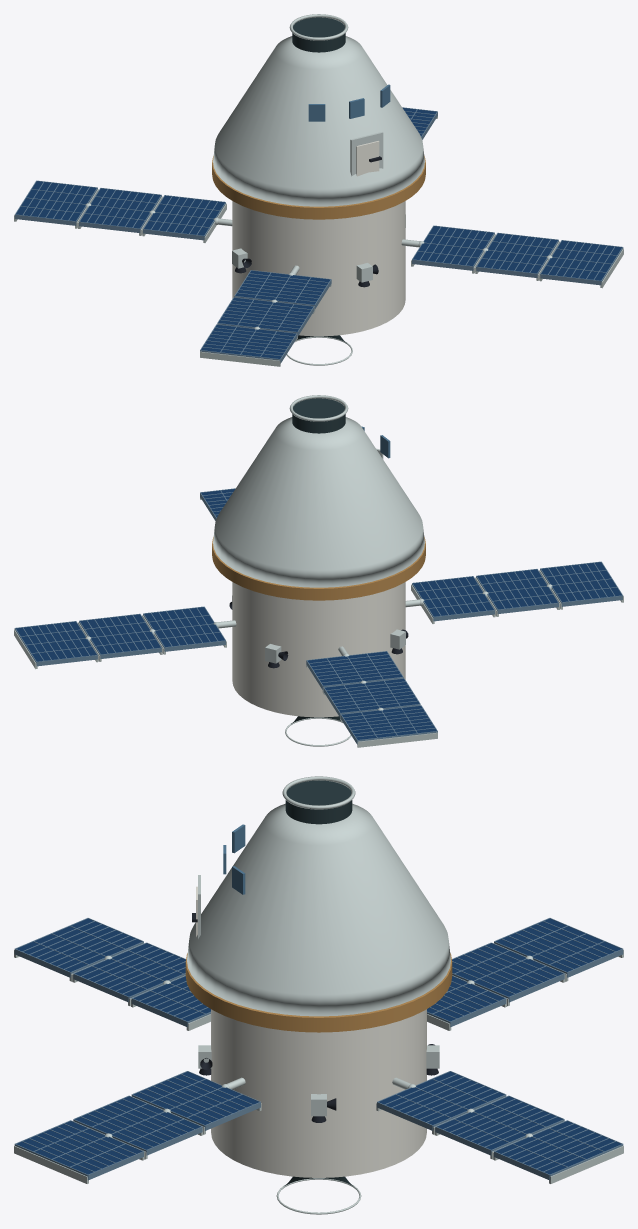
Rendered from orion.glb.
The picture shows the model from 3 angles, top to bottom: view 1: azimuth 30°, elevation 25°; view 2: azimuth 150°, elevation 25°; view 3: azimuth 270°, elevation 25°; orthographic projection. The views are drawn at different scales.
Visible parts, largest first — view 1: crew, photovoltaic-panel (×9), service, solar (×9), heatshield, docking, propulsion; view 2: crew, photovoltaic-panel (×9), service, solar (×9), heatshield, docking, propulsion; view 3: crew, photovoltaic-panel (×12), service, solar (×12), heatshield, docking, propulsion.
Boxes of the visible parts, bbox=[...] form: crew: bbox=[213, 36, 424, 206]; photovoltaic-panel (×9): bbox=[16, 181, 621, 358]; service: bbox=[232, 201, 405, 336]; solar (×9): bbox=[14, 180, 623, 366]; heatshield: bbox=[212, 156, 425, 219]; docking: bbox=[289, 14, 348, 52]; propulsion: bbox=[232, 214, 405, 365]; crew: bbox=[213, 417, 424, 587]; photovoltaic-panel (×9): bbox=[16, 562, 621, 739]; service: bbox=[232, 582, 405, 717]; solar (×9): bbox=[14, 561, 623, 747]; heatshield: bbox=[212, 537, 425, 600]; docking: bbox=[289, 395, 348, 433]; propulsion: bbox=[229, 595, 408, 746]; crew: bbox=[187, 803, 450, 1016]; photovoltaic-panel (×12): bbox=[16, 918, 621, 1174]; service: bbox=[211, 1009, 426, 1177]; solar (×12): bbox=[14, 918, 623, 1183]; heatshield: bbox=[185, 953, 452, 1032]; docking: bbox=[282, 776, 355, 824]; propulsion: bbox=[198, 1044, 439, 1214].
Size of the model in its own units: 5.31 by 3.9 by 5.31.
